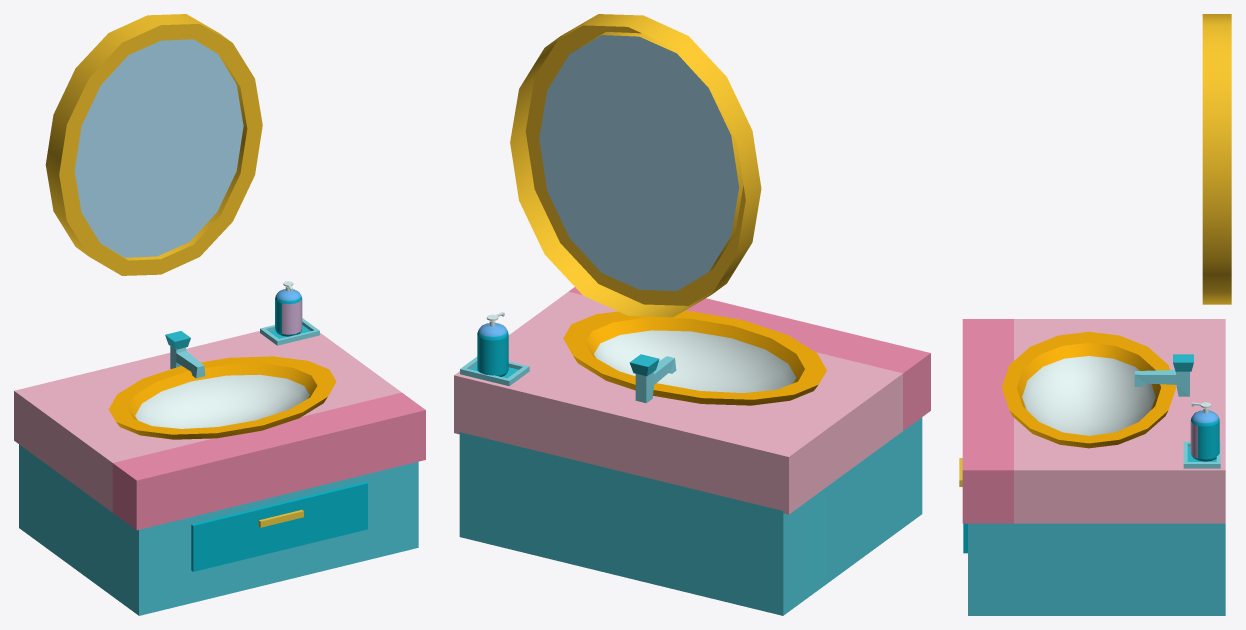
Rendered from MXC_Restroom_SinkFemale_lv2.fbx.
3 renders of one model, left to right at view 1: azimuth 30°, elevation 25°; view 2: azimuth 150°, elevation 25°; view 3: azimuth 270°, elevation 25°, orthographic. The views are drawn at different scales.
Visible parts, largest first — view 1: MXC_Restroom_SinkFemale_lv2; view 2: MXC_Restroom_SinkFemale_lv2; view 3: MXC_Restroom_SinkFemale_lv2.
Part boxes in pixels (box(x1,y1,x2,y2)): MXC_Restroom_SinkFemale_lv2: box(14, 14, 425, 615); MXC_Restroom_SinkFemale_lv2: box(454, 14, 930, 615); MXC_Restroom_SinkFemale_lv2: box(959, 14, 1231, 615).
Bounding box in the file's own units: 171 × 271 × 130.
